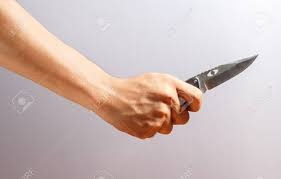knife: (180, 52, 258, 109)
